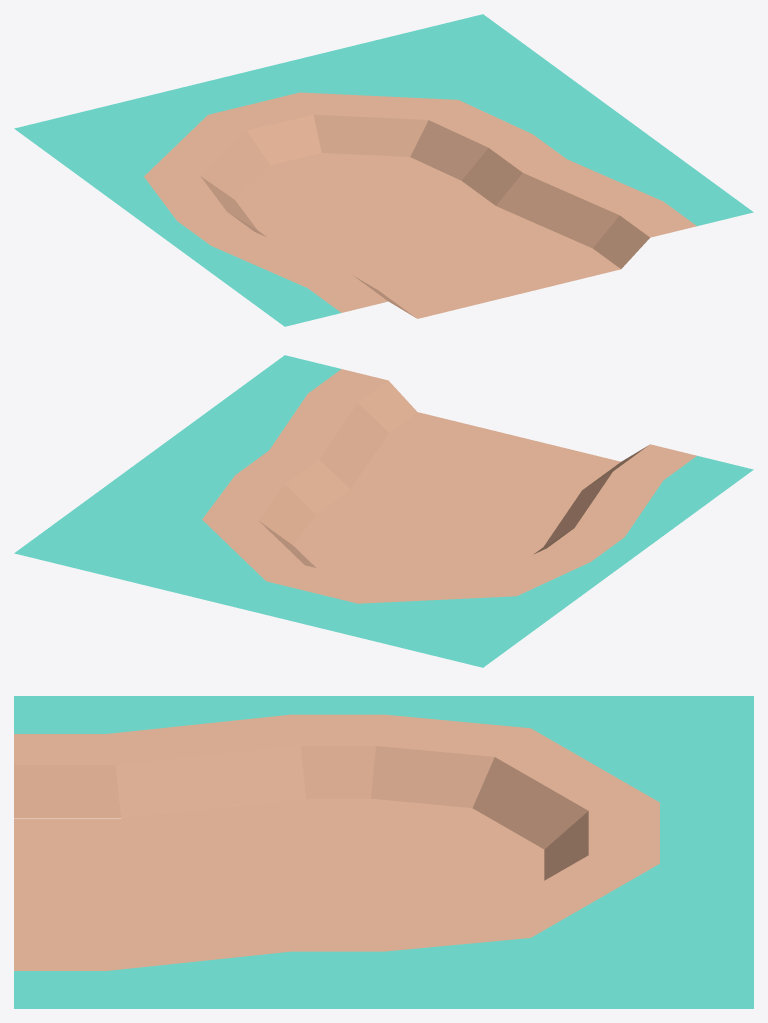
The model's file is ground_pathEndClosed.glb.
3 renders of one model, top to bottom at view 1: azimuth 30°, elevation 25°; view 2: azimuth 150°, elevation 25°; view 3: azimuth 270°, elevation 25°, orthographic. The views are drawn at different scales.
Parts seen in each view (by area): view 1: ground_pathEndClosed; view 2: ground_pathEndClosed; view 3: ground_pathEndClosed.
Part boxes in pixels (<box>): ground_pathEndClosed: <box>14,14,753,326</box>; ground_pathEndClosed: <box>14,355,753,667</box>; ground_pathEndClosed: <box>14,696,753,1008</box>.
Size of the model in its own units: 1 by 0.05 by 1.
